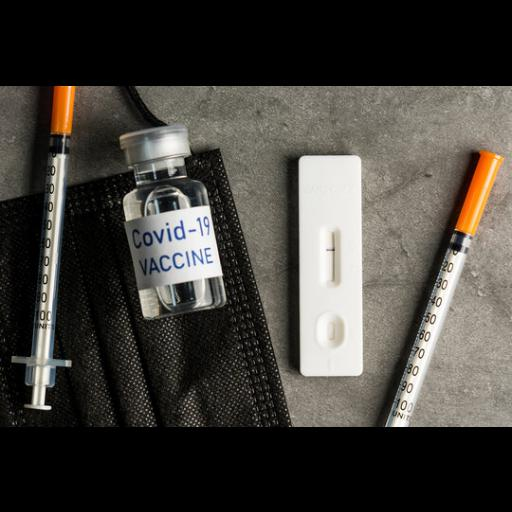Neg: (297, 154, 361, 374)
